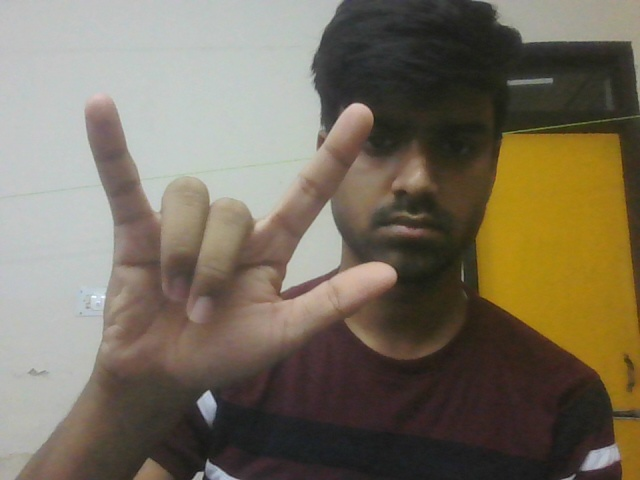iloveyou: (65, 91, 408, 424)
